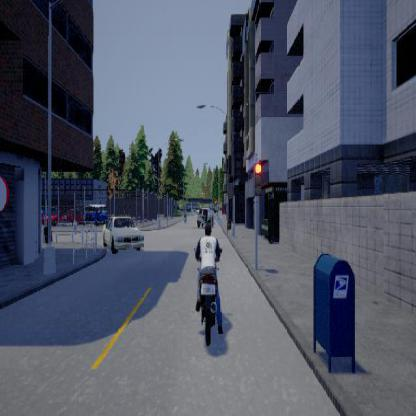motobike: (192, 224, 224, 346)
traffic_light_red: (253, 155, 261, 202)
vehicle: (102, 213, 144, 253), (196, 206, 213, 226)
